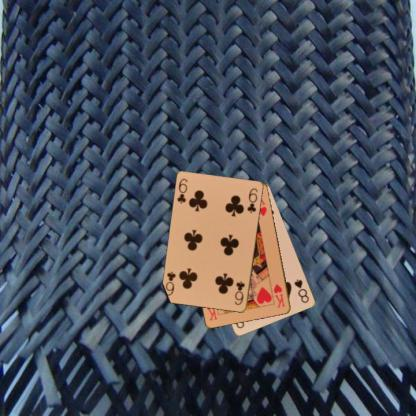6c: (174, 176, 189, 205), (232, 279, 246, 306)
8s: (292, 277, 310, 304)
Kh: (271, 281, 287, 309)
